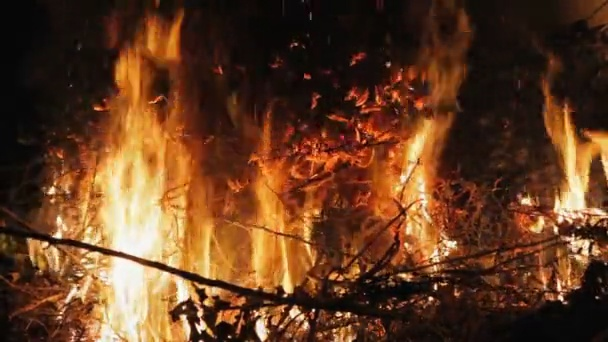fire: (29, 15, 220, 341), (534, 88, 608, 294), (245, 156, 312, 341), (398, 117, 454, 272)
